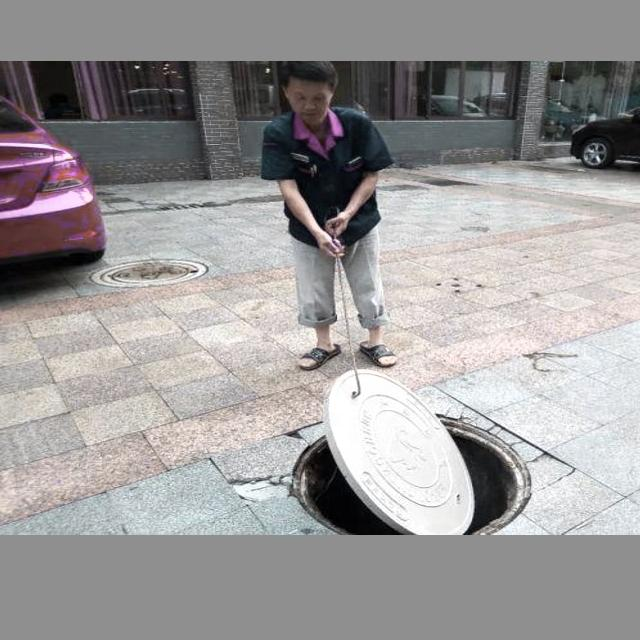uncovered: (249, 364, 559, 535)
